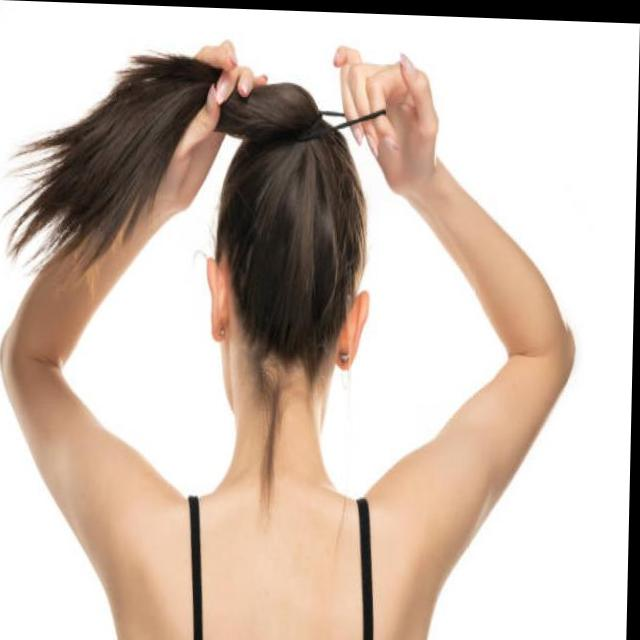no helmet: (202, 63, 386, 429)
